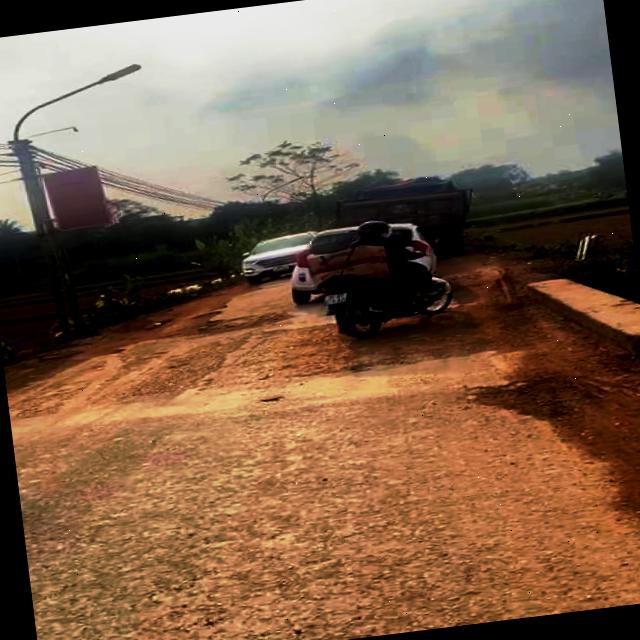pothole: (464, 366, 580, 432), (138, 300, 300, 346)
